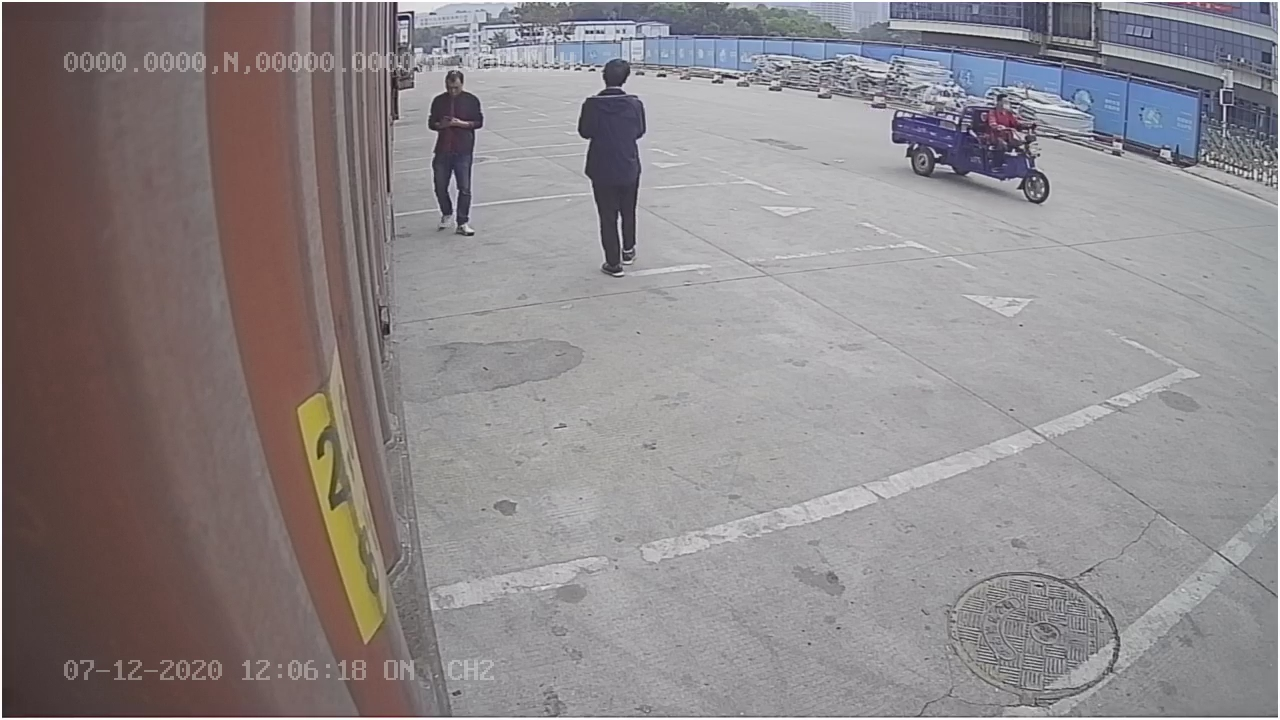person: (579, 56, 647, 281)
